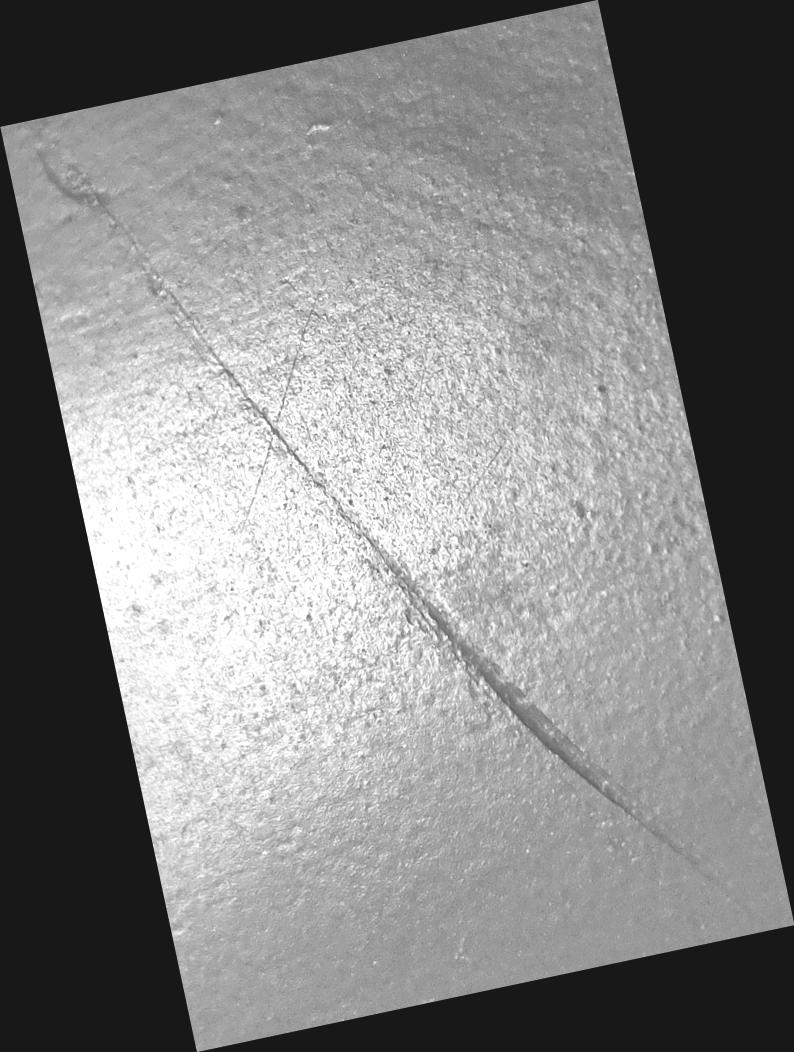scratch: (1, 1, 794, 1052)
